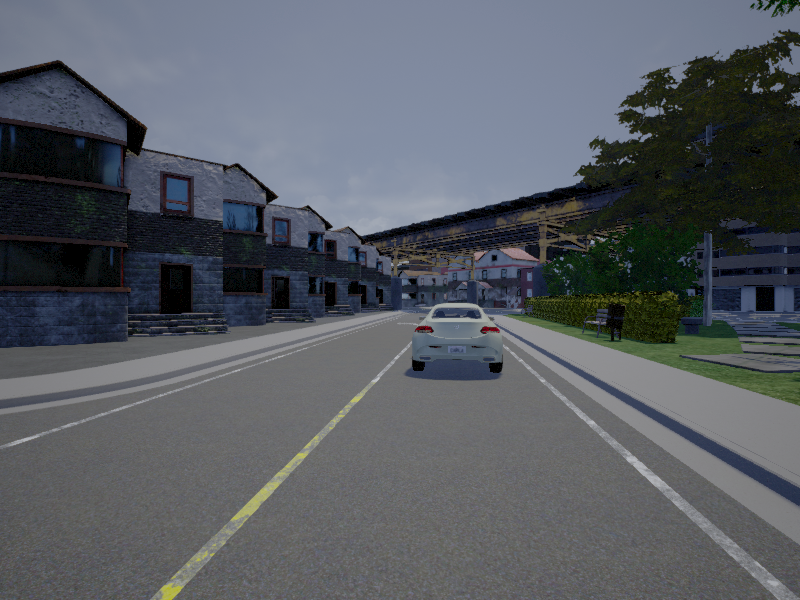Benign: (414, 299, 502, 379)
